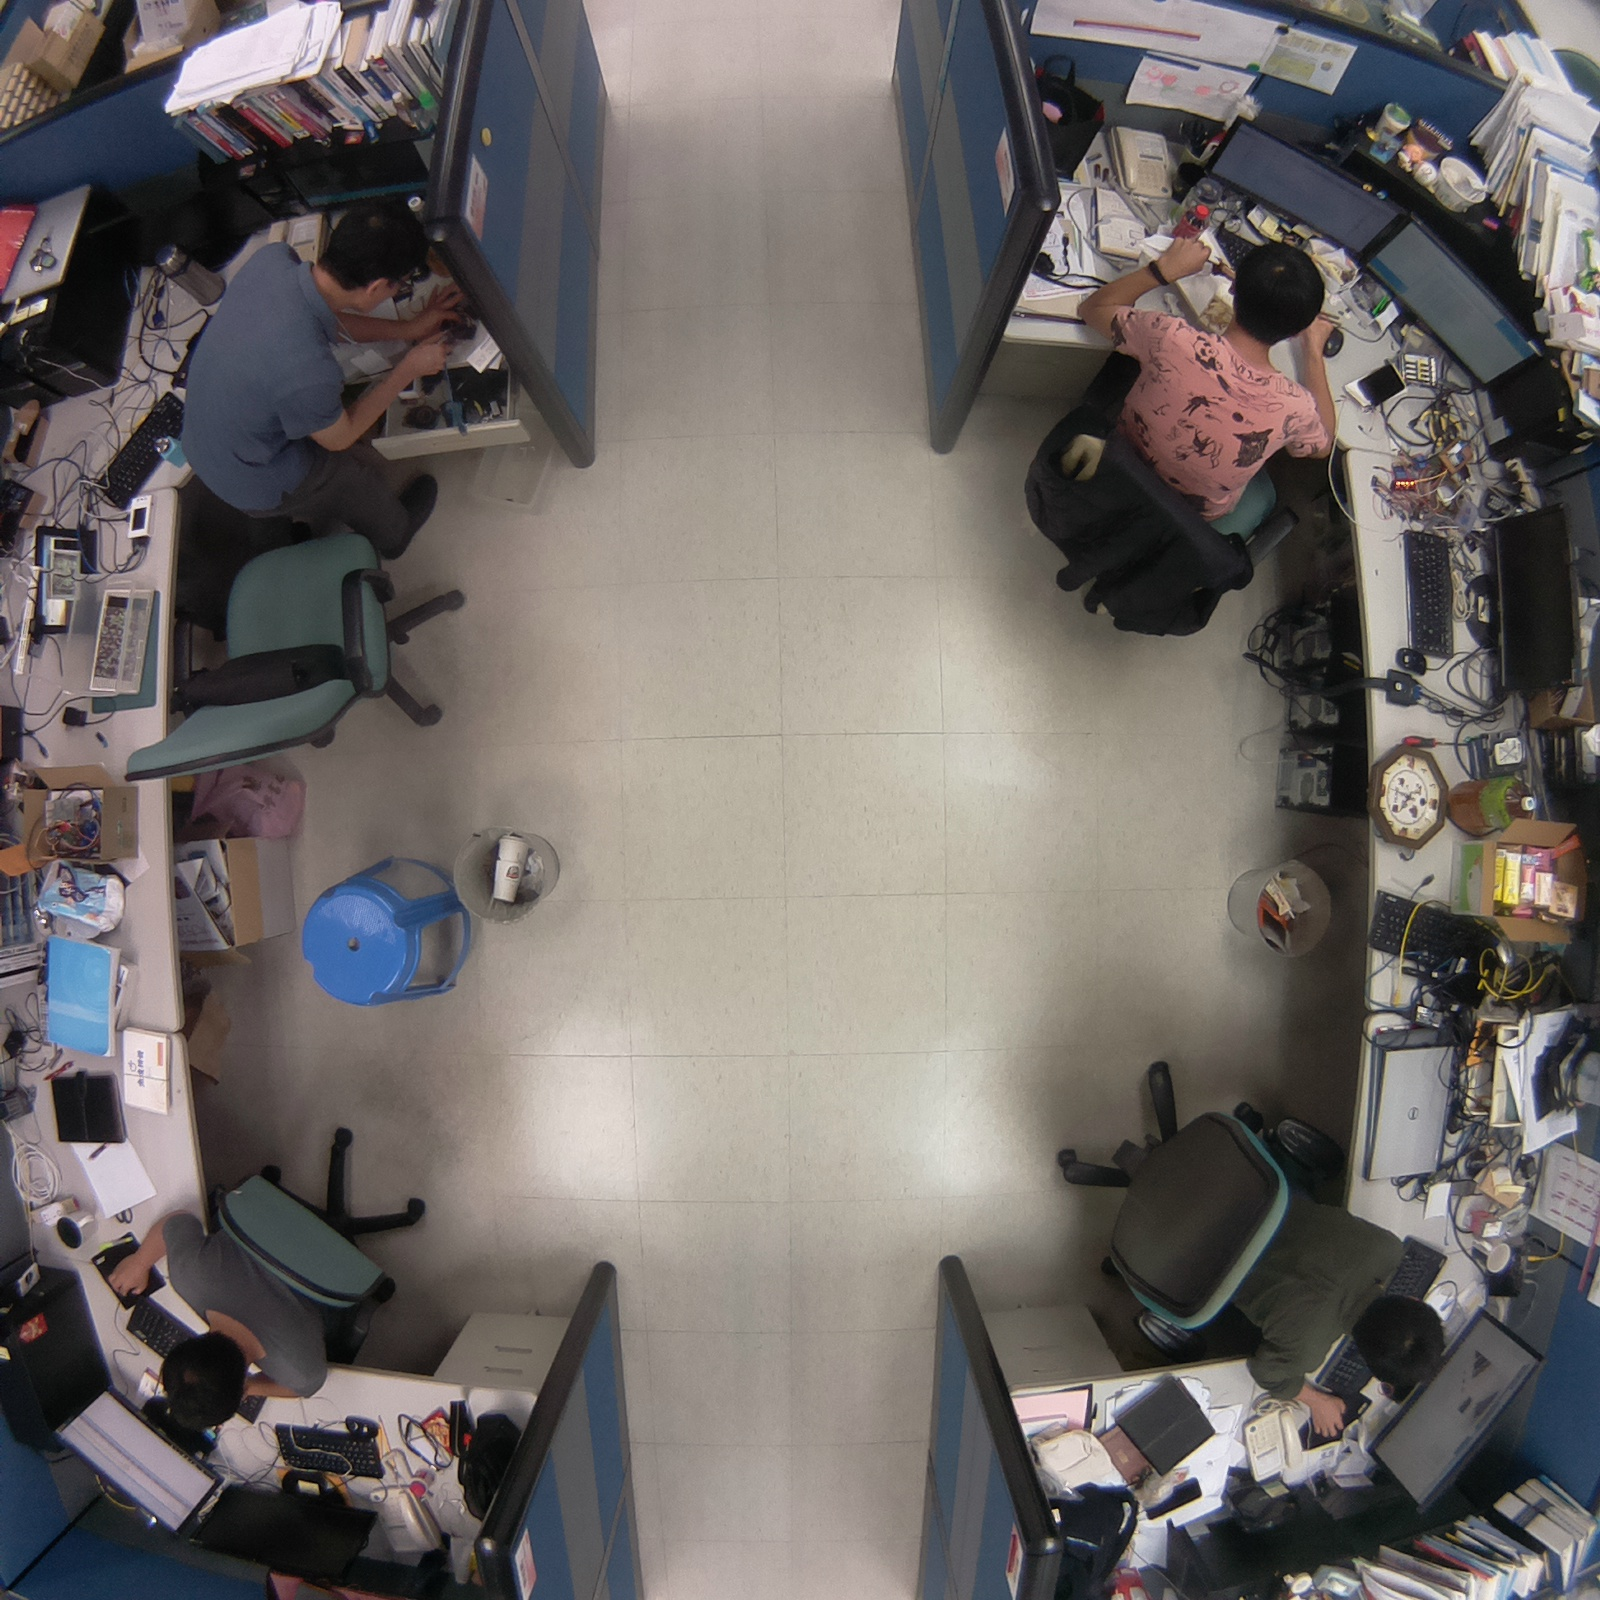chair: (112, 524, 481, 809)
head: (315, 194, 437, 312), (146, 1325, 256, 1431), (1225, 239, 1331, 343), (1352, 1292, 1450, 1398)
sitting: (1047, 1047, 1451, 1440), (1012, 227, 1359, 645), (95, 1111, 429, 1438)
standing: (168, 195, 453, 575)
